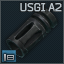AR-15 Colt USGI A2 5.56x45 flash hider: (0, 0, 64, 64)
